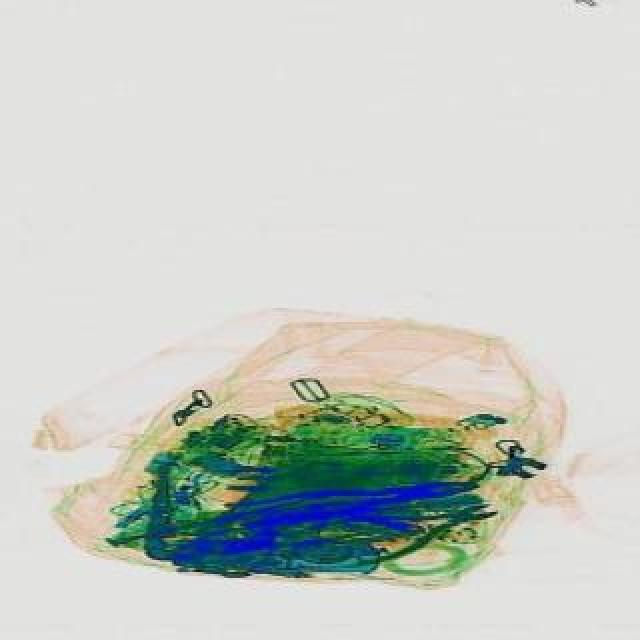wrench: (300, 476, 504, 576), (220, 468, 472, 534)
